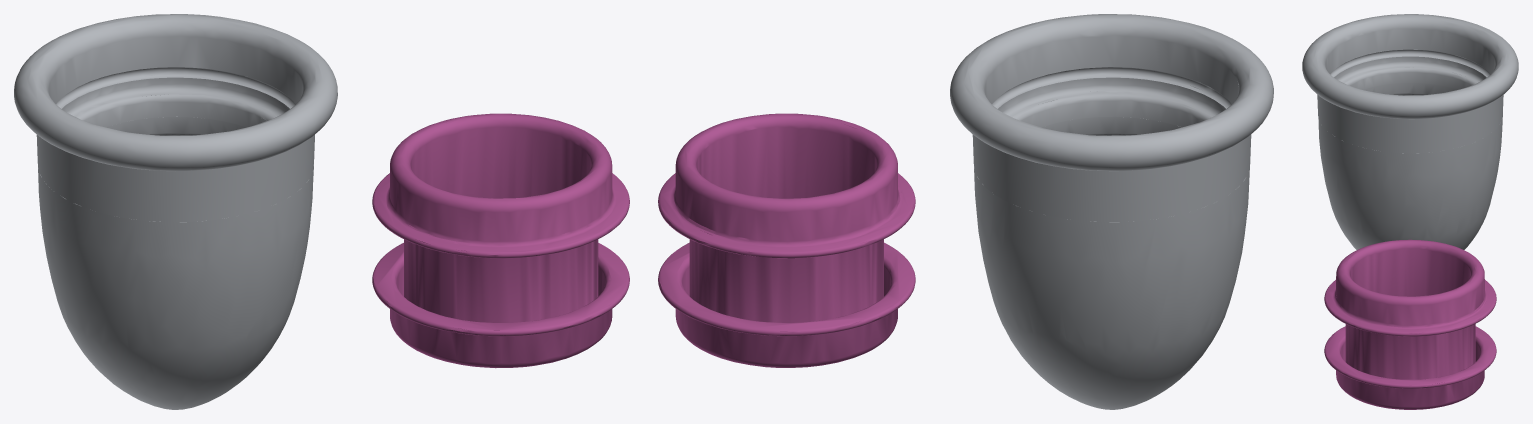
File: concept-twister.glb
3 views of the same model, side by side, from view 1: azimuth 30°, elevation 25°; view 2: azimuth 150°, elevation 25°; view 3: azimuth 270°, elevation 25° (orthographic). The views are drawn at different scales.
Visible parts, largest first — view 1: twister-skin-0, twister-cup-top-0, twister-cup-bottom-withdent-0; view 2: twister-skin-0, twister-cup-top-0, twister-cup-bottom-withdent-0; view 3: twister-skin-0, twister-cup-top-0, twister-cup-bottom-withdent-0.
Part boxes in pixels (left/top/right/bottom): twister-skin-0: left=372, top=113, right=629, bottom=368; twister-cup-top-0: left=14, top=14, right=337, bottom=222; twister-cup-bottom-withdent-0: left=38, top=116, right=313, bottom=409; twister-skin-0: left=658, top=113, right=915, bottom=367; twister-cup-top-0: left=950, top=14, right=1273, bottom=222; twister-cup-bottom-withdent-0: left=974, top=116, right=1249, bottom=409; twister-skin-0: left=1324, top=239, right=1496, bottom=409; twister-cup-top-0: left=1302, top=14, right=1518, bottom=153; twister-cup-bottom-withdent-0: left=1318, top=82, right=1502, bottom=249.
Bounding box in the file's own units: 0.0946 × 0.0513 × 0.046.
